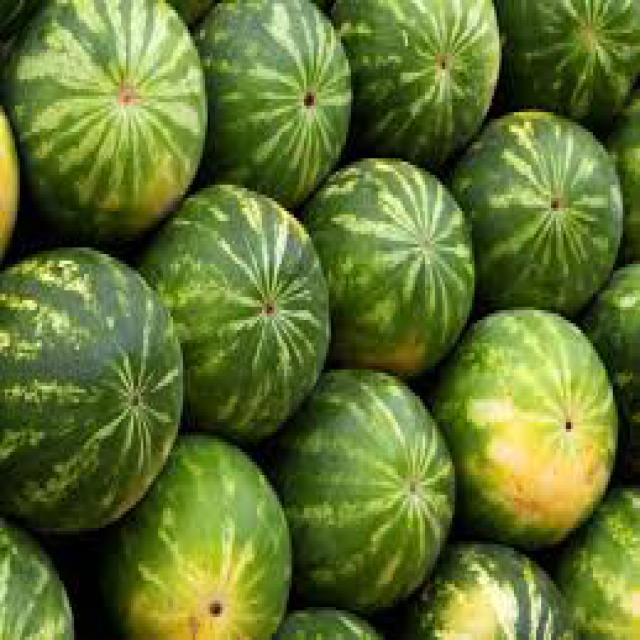watermelon: (0, 244, 180, 531), (138, 188, 324, 432), (5, 0, 200, 228), (435, 307, 618, 541), (276, 370, 449, 610), (304, 158, 472, 376), (109, 436, 289, 636), (452, 112, 628, 314), (198, 0, 351, 198), (329, 0, 499, 165), (507, 0, 638, 119), (415, 544, 573, 637), (556, 488, 638, 637), (0, 514, 74, 636)
